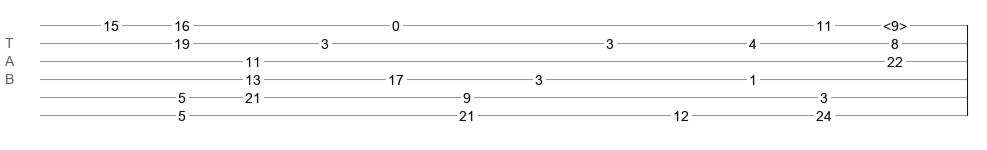0: (392, 18, 400, 28)
1: (749, 72, 757, 82)
11: (245, 54, 261, 64), (816, 18, 832, 28)
12: (673, 108, 689, 118)
13: (245, 72, 261, 82)
15: (103, 18, 119, 28)
16: (174, 18, 190, 28)
17: (388, 72, 404, 82)
19: (174, 36, 190, 46)
21: (245, 90, 261, 100), (459, 108, 475, 118)
22: (887, 54, 903, 64)
24: (816, 108, 832, 118)
3: (321, 36, 329, 46), (535, 72, 543, 82), (606, 36, 614, 46), (820, 90, 828, 100)
4: (749, 36, 757, 46)
5: (178, 108, 186, 118), (178, 90, 186, 100)
8: (891, 36, 899, 46)
9: (463, 90, 471, 100)
harmonic: (883, 18, 907, 28)
